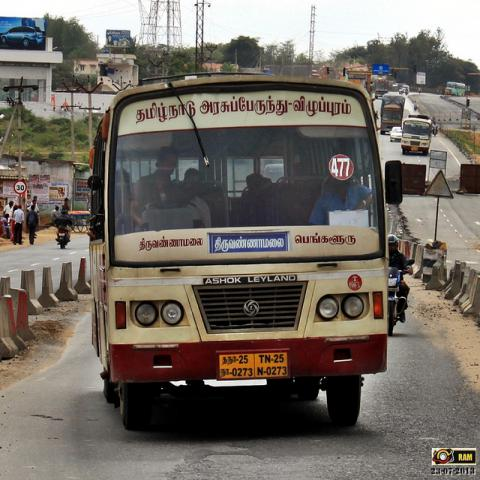bus: (87, 84, 390, 433), (400, 114, 434, 156), (446, 82, 466, 96)
car: (390, 127, 402, 142), (399, 87, 407, 94)
motorcycle: (388, 260, 416, 335), (58, 227, 70, 249), (433, 128, 437, 136)
truck: (380, 92, 406, 135), (348, 65, 371, 95), (376, 80, 388, 98)
